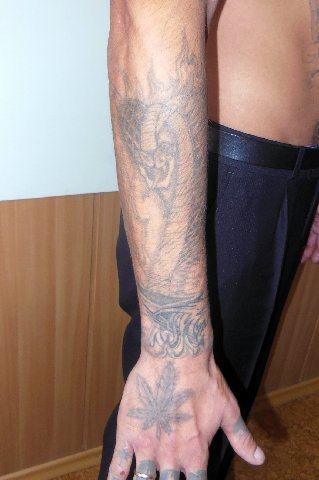tatu7_zmeya: (108, 91, 219, 354)
